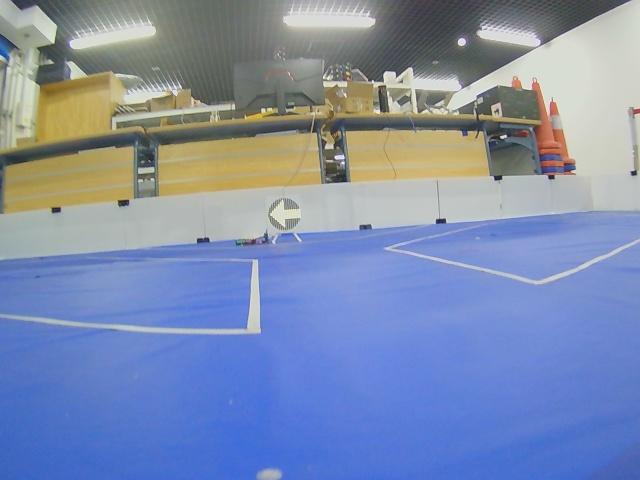left_yellow: (268, 198, 301, 231)
